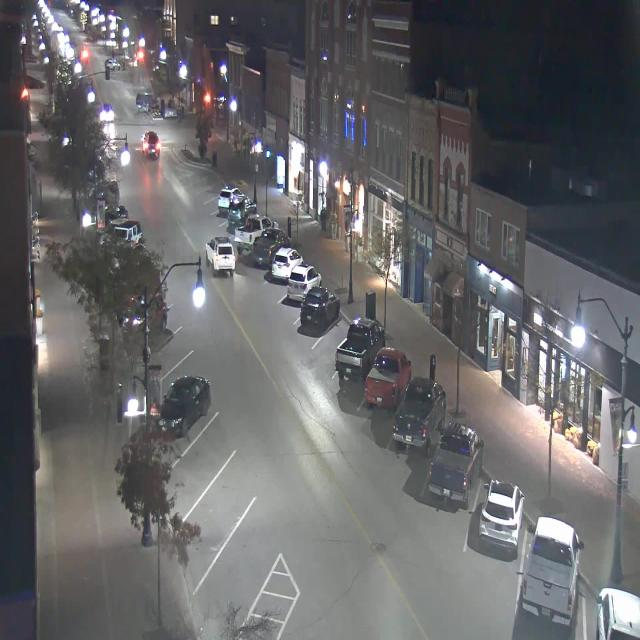available: (221, 486, 297, 584), (182, 400, 240, 479), (202, 455, 265, 524), (317, 306, 355, 366), (156, 321, 198, 370), (167, 342, 208, 386)
occupied: (520, 514, 584, 626), (428, 420, 484, 509), (392, 375, 446, 456), (478, 478, 525, 558), (157, 374, 211, 438), (335, 314, 385, 380), (364, 346, 412, 411), (595, 586, 640, 639), (300, 286, 340, 328), (233, 214, 270, 254), (286, 262, 322, 303), (250, 226, 282, 270), (271, 245, 301, 285), (226, 196, 258, 226), (216, 181, 242, 213)
